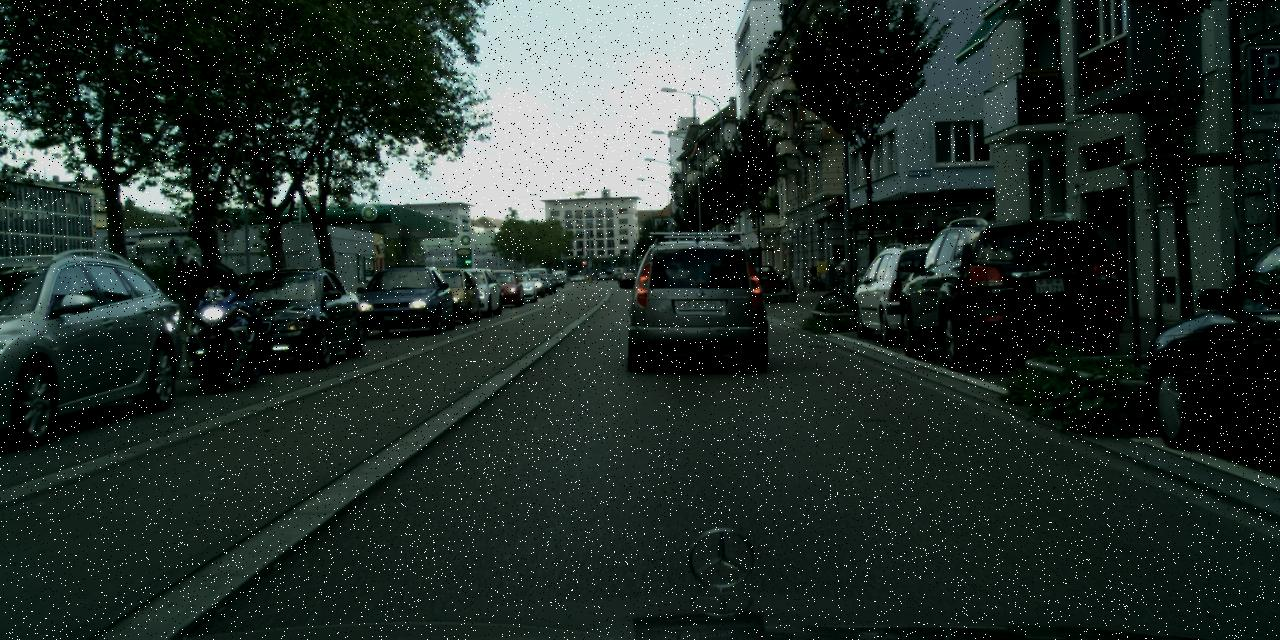ped: (185, 255, 232, 369)
